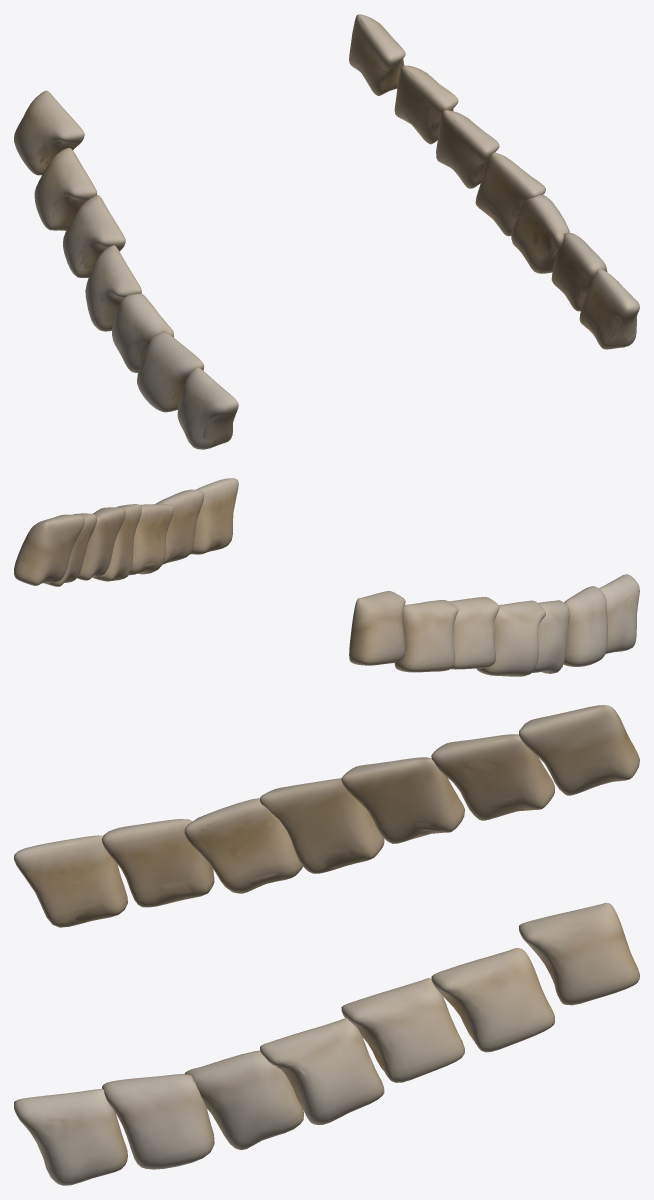
File: Teeth Upper.fbx
3 renders of one model, top to bottom at view 1: azimuth 30°, elevation 25°; view 2: azimuth 150°, elevation 25°; view 3: azimuth 270°, elevation 25°, orthographic. The views are drawn at different scales.
Visible parts, largest first — view 1: Teeth Upper, Teeth Upper low; view 2: Teeth Upper, Teeth Upper low; view 3: Teeth Upper, Teeth Upper low.
Part boxes in pixels (<box>): Teeth Upper: <box>14,14,639,449</box>; Teeth Upper low: <box>36,17,637,443</box>; Teeth Upper: <box>14,478,639,676</box>; Teeth Upper low: <box>22,483,634,672</box>; Teeth Upper: <box>14,705,639,1185</box>; Teeth Upper low: <box>23,707,631,1179</box>.
Size of the model in its own units: 6.61 by 2.64 by 6.09.
Materials: 1 (1 with a texture image).
